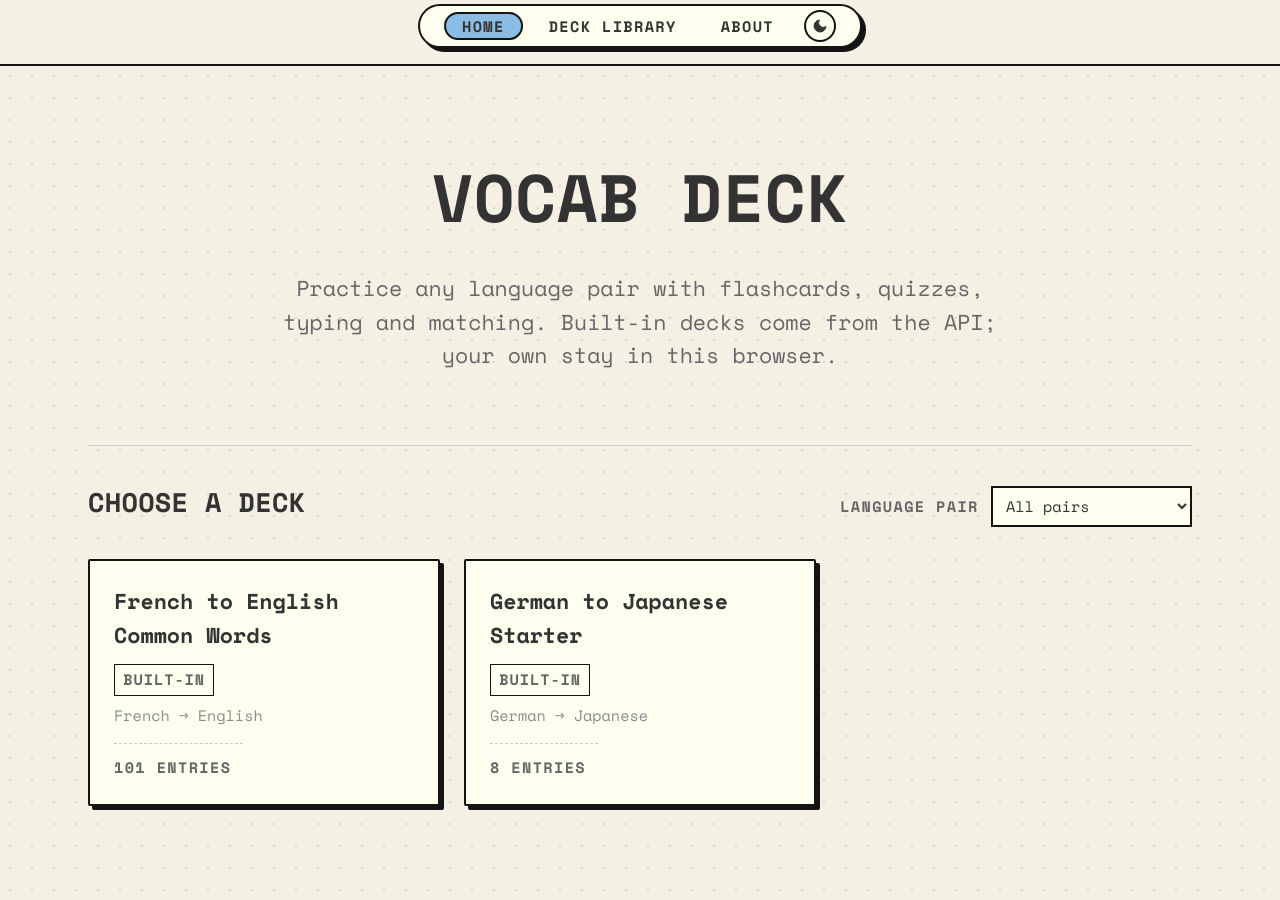
it: home -> library navigation works
The image size is (1280, 900).
Expected: the heading "Vocab Deck" is shown, [432,162,848,232]
Click the link "Deck library". click: point(613, 26)
box: [549,15,677,37]
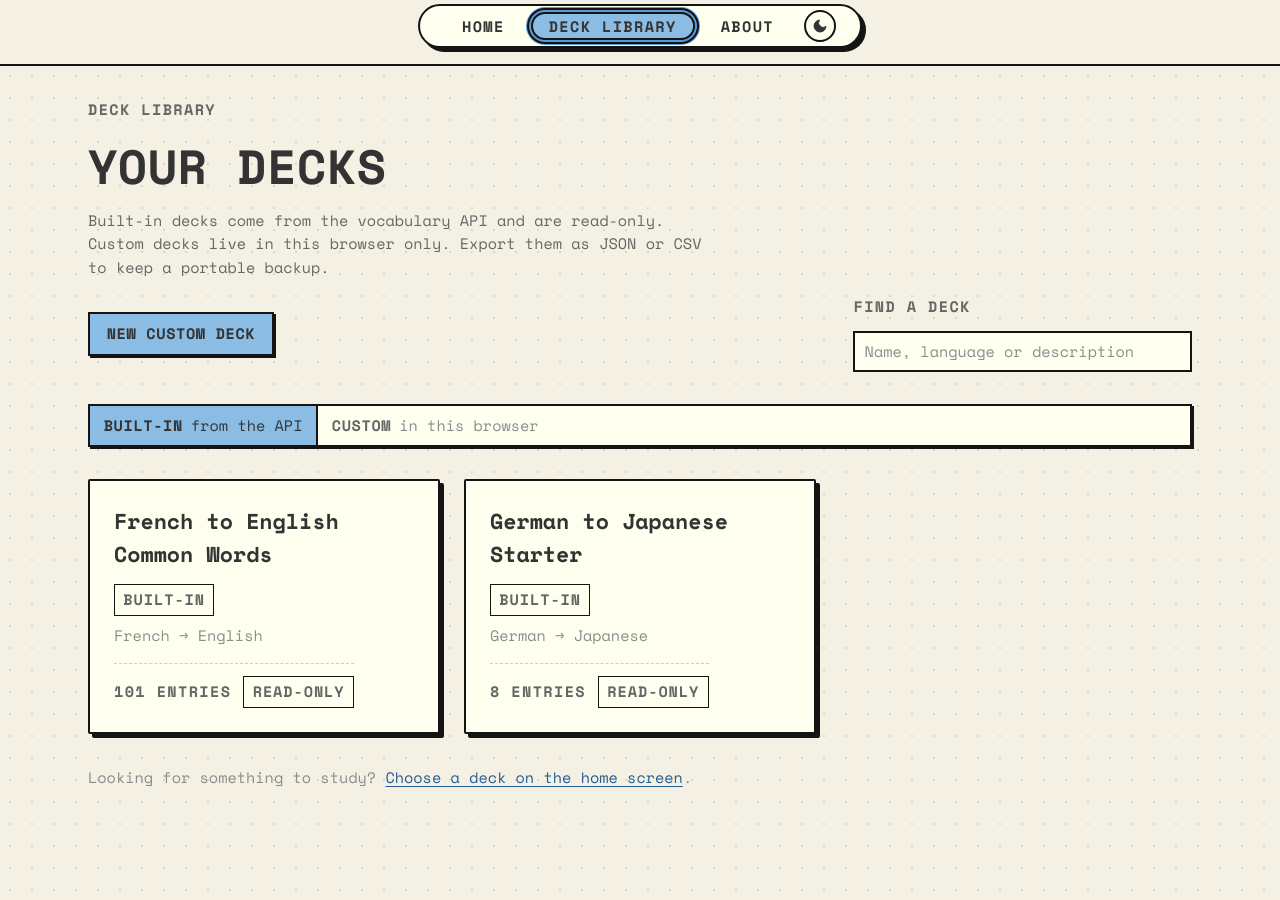
Expected: the text "French to English Common Words" is shown, [114,505,339,570]
Now the heading "Your decks" is shown, box [88,130,387,201]
